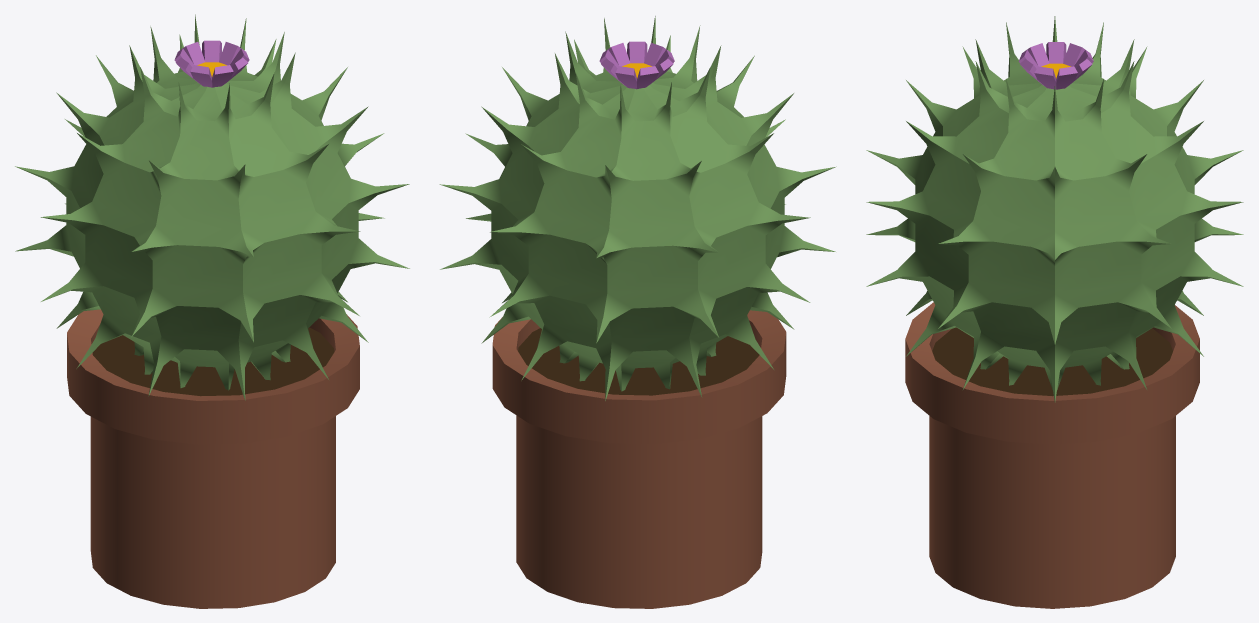
Rendered from Cactus.fbx.
3 views of the same model, side by side, from view 1: azimuth 30°, elevation 25°; view 2: azimuth 150°, elevation 25°; view 3: azimuth 270°, elevation 25° (orthographic).
Parts seen in each view (by area): view 1: pSphere6, pCylinder5, pCylinder11, pPipe28; view 2: pSphere6, pCylinder5, pCylinder11, pPipe28; view 3: pSphere6, pCylinder5, pCylinder11, pPipe28.
Boxes of the visible parts, <box> form: pSphere6: <box>15,14,409,400</box>; pCylinder5: <box>67,309,359,608</box>; pCylinder11: <box>92,327,334,396</box>; pPipe28: <box>174,40,249,87</box>; pSphere6: <box>439,16,836,400</box>; pCylinder5: <box>492,310,786,608</box>; pCylinder11: <box>518,328,759,395</box>; pPipe28: <box>599,41,674,89</box>; pSphere6: <box>866,16,1243,402</box>; pCylinder5: <box>905,302,1199,608</box>; pCylinder11: <box>932,327,1172,396</box>; pPipe28: <box>1018,42,1093,89</box>.
Size of the model in its own units: 45.17 by 63.43 by 42.96.
